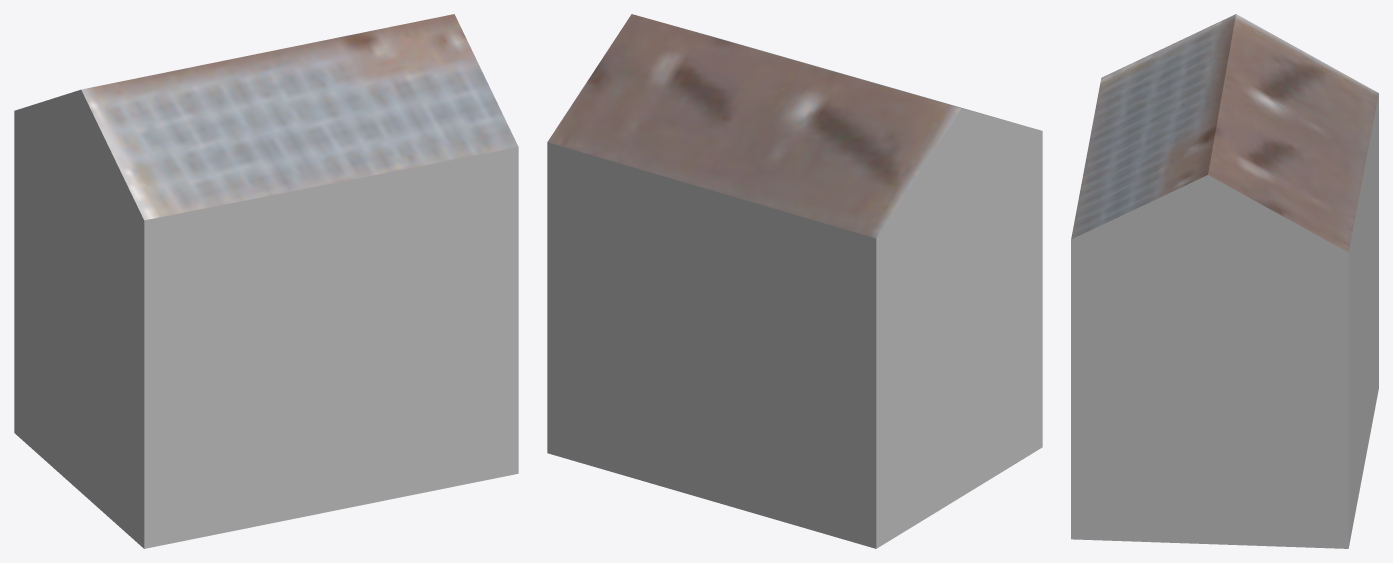
File: DEBW_0010007Tx2X.gltf
The picture shows the model from 3 angles, left to right: view 1: azimuth 30°, elevation 25°; view 2: azimuth 150°, elevation 25°; view 3: azimuth 270°, elevation 25°; orthographic projection. The views are drawn at different scales.
Visible parts, largest first — view 1: Z_UP; view 2: Z_UP; view 3: Z_UP.
Part boxes in pixels (x1,y1,x2,y2): Z_UP: [14, 14, 518, 548]; Z_UP: [547, 14, 1042, 548]; Z_UP: [1071, 14, 1378, 548].
Size of the model in its own units: 15.94 by 16.19 by 12.21.
2 materials, 1 textured.
